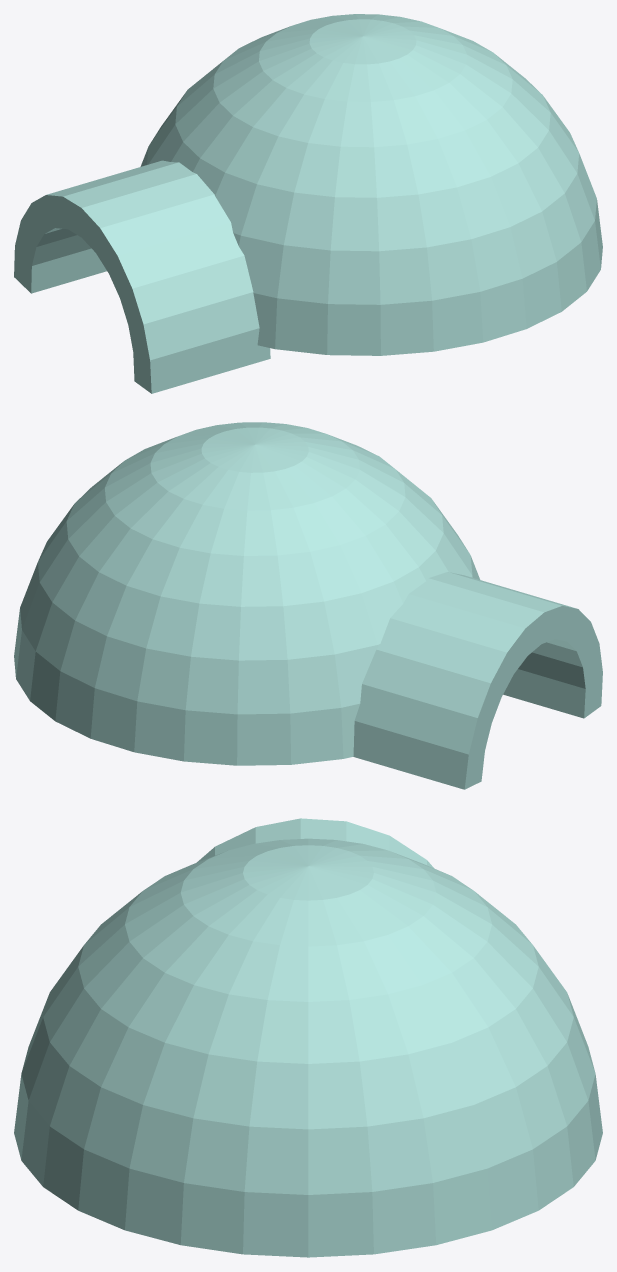
The picture shows the model from 3 angles, top to bottom: view 1: azimuth 30°, elevation 25°; view 2: azimuth 150°, elevation 25°; view 3: azimuth 270°, elevation 25°; orthographic projection. The views are drawn at different scales.
Parts seen in each view (by area): view 1: Cylinder.001; view 2: Cylinder.001; view 3: Cylinder.001.
Boxes of the visible parts, bbox=[...] form: Cylinder.001: bbox=[14, 14, 602, 393]; Cylinder.001: bbox=[14, 422, 602, 789]; Cylinder.001: bbox=[14, 818, 602, 1257].
Size of the model in its own units: 1656 by 773 by 1400.
